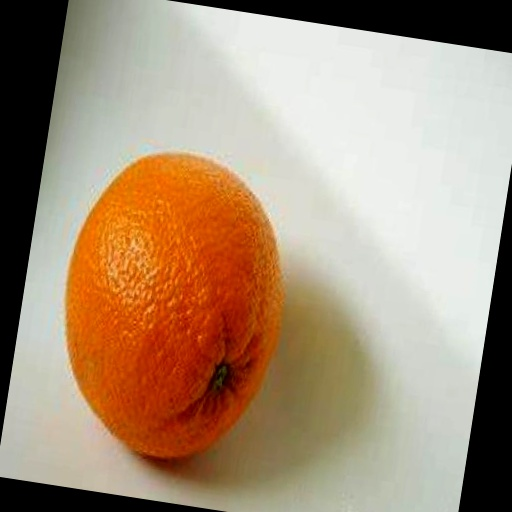fruit: (66, 154, 283, 457)
